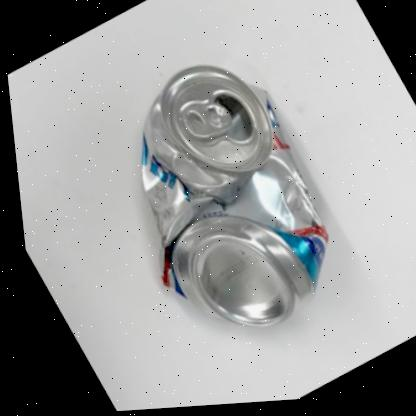Metal: (135, 67, 320, 329)
